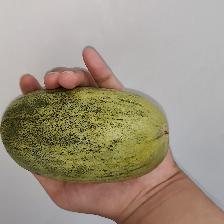gua: (12, 95, 168, 166)
